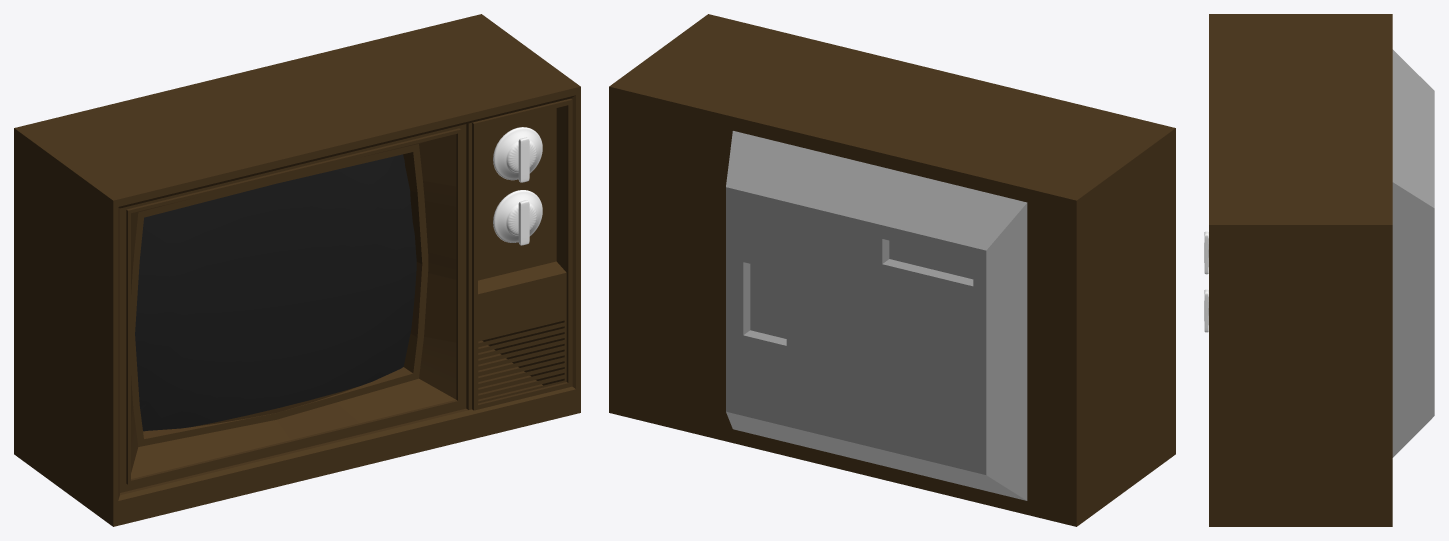
The model's file is High Poly TV norm.fbx.
3 views of the same model, side by side, from view 1: azimuth 30°, elevation 25°; view 2: azimuth 150°, elevation 25°; view 3: azimuth 270°, elevation 25° (orthographic). The views are drawn at different scales.
Parts seen in each view (by area): view 1: Plane, Cube.001, Cube.002; view 2: Plane; view 3: Plane.
Part boxes in pixels (bbox=[...]): Plane: bbox=[14, 14, 580, 526]; Cube.001: bbox=[493, 127, 542, 182]; Cube.002: bbox=[493, 190, 542, 245]; Plane: bbox=[609, 14, 1175, 526]; Plane: bbox=[1209, 14, 1434, 526].
Bounding box in the file's own units: 544 × 363 × 251.
